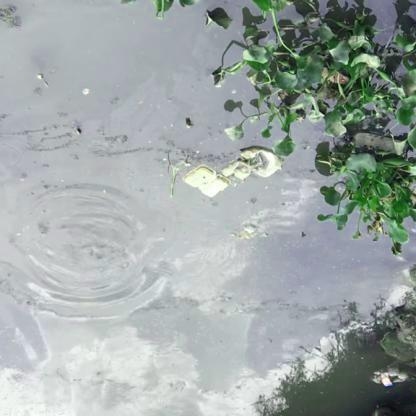Plastic: (183, 168, 232, 199)
Trash: (235, 148, 284, 188), (376, 372, 398, 387)
